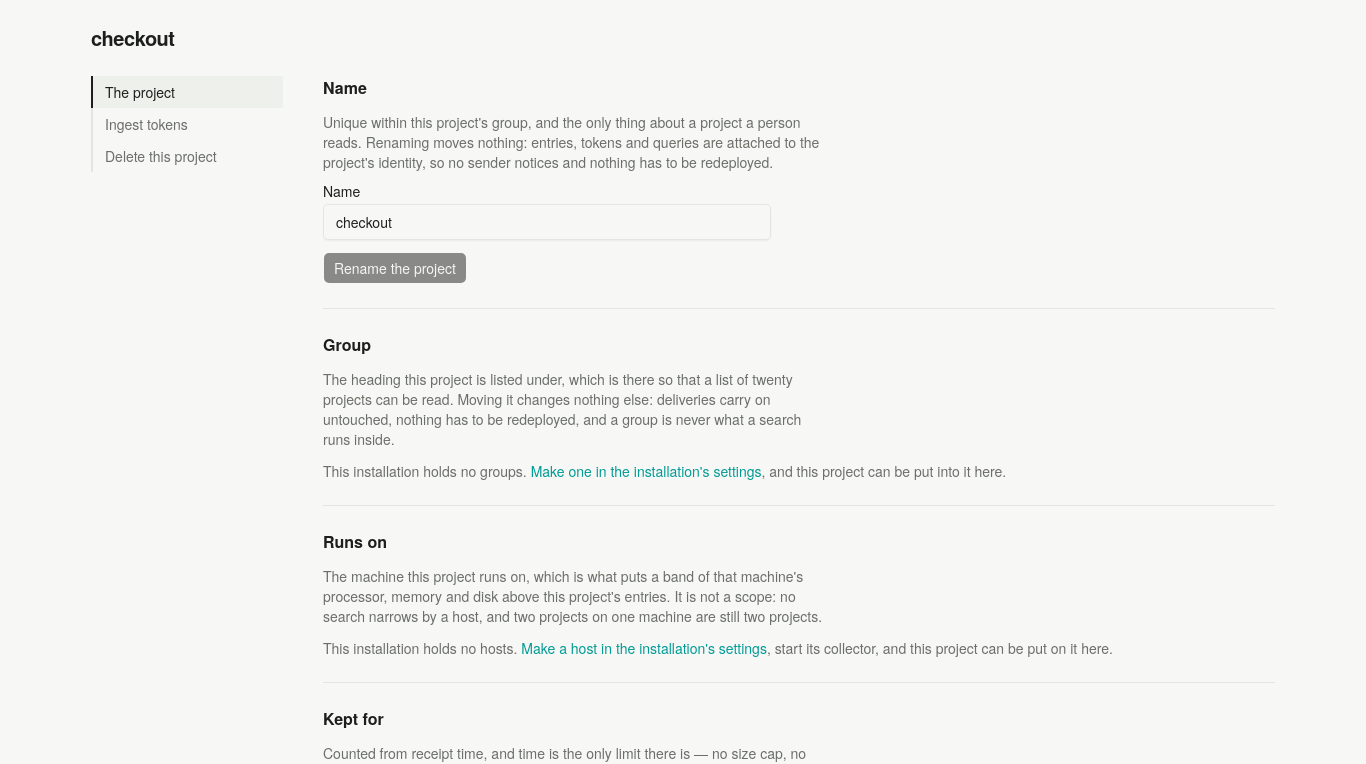
Test: the name › says which name is already taken
The width and height of the screenshot is (1366, 764).
Step 1. Replace the text in the field labelled "Name" with "billing" → (547, 222), box x1=323 y1=204 x2=771 y2=240
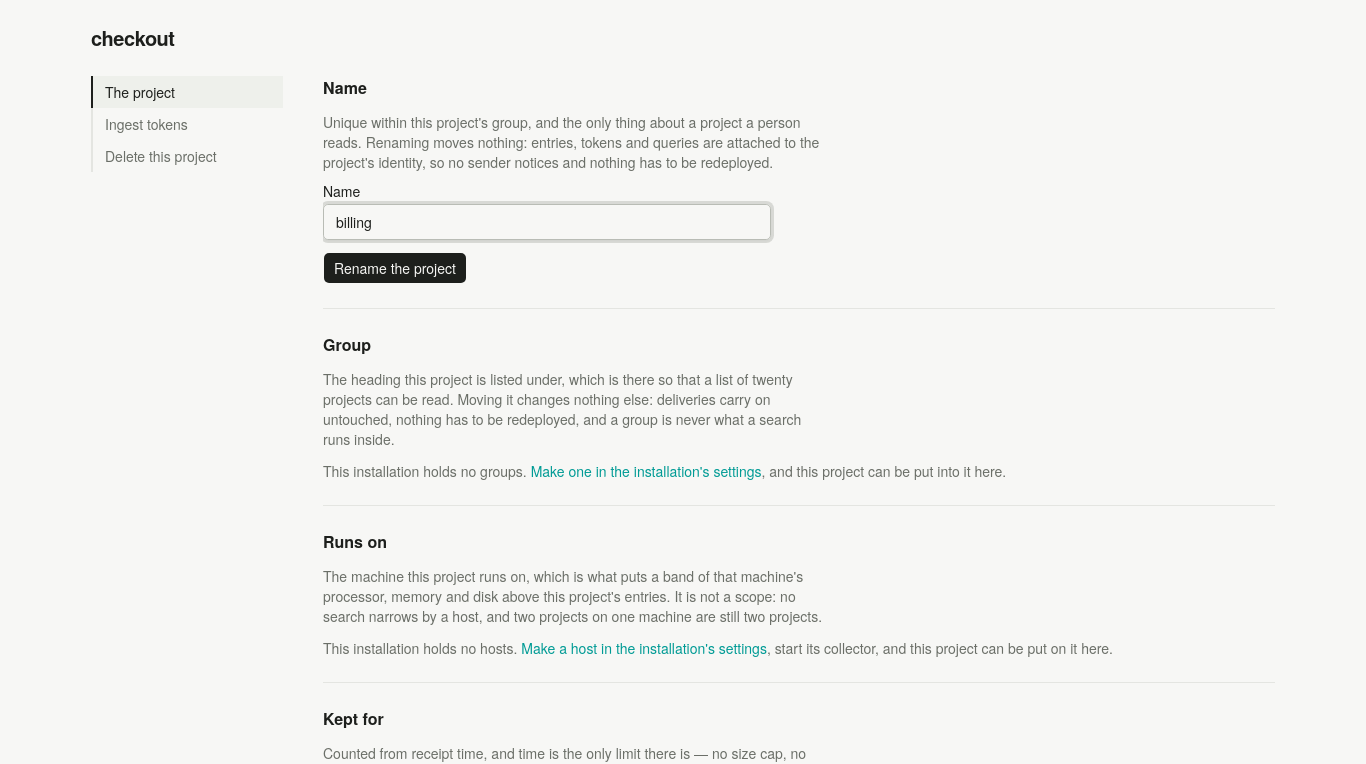
Step 2. Click the button "Rename the project" → (395, 268), box x1=323 y1=252 x2=467 y2=284
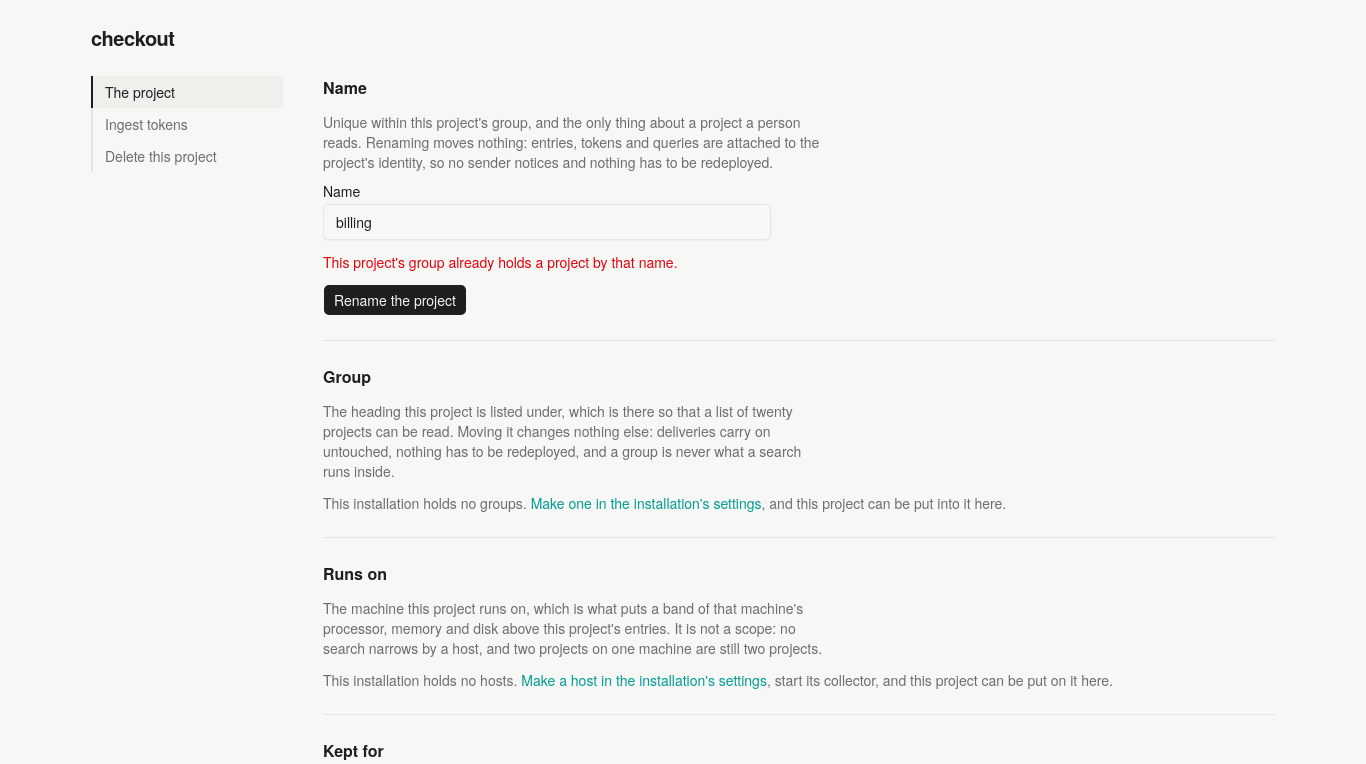
Expected: the text "This project's group already holds a project by that name." is shown, x1=323 y1=252 x2=678 y2=272
